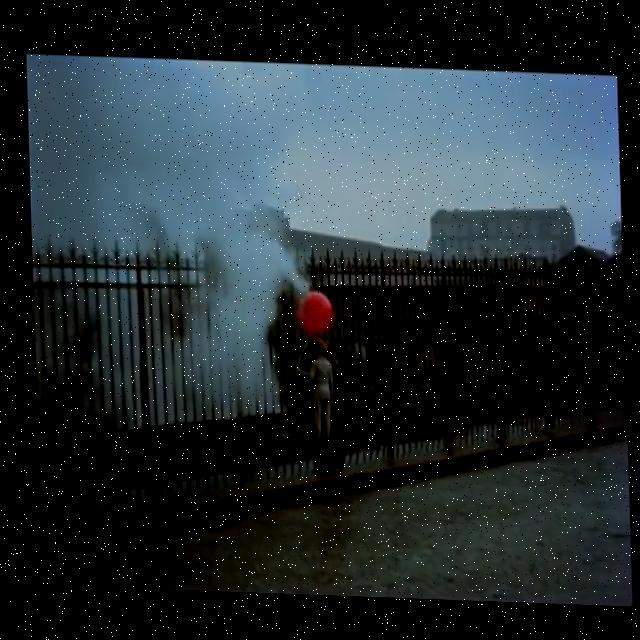balloon: (293, 287, 332, 334)
